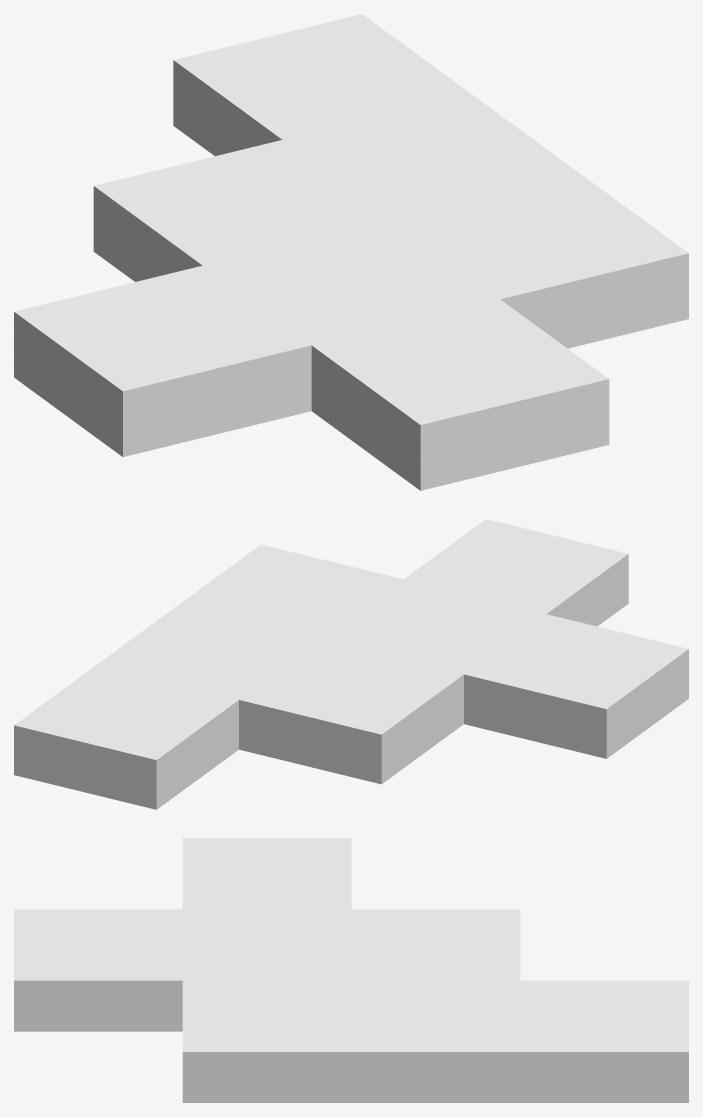
Rendered from cloud3.gltf.
3 views of the same model, one above another, from view 1: azimuth 30°, elevation 25°; view 2: azimuth 150°, elevation 25°; view 3: azimuth 270°, elevation 25° (orthographic). The views are drawn at different scales.
Visible parts, largest first — view 1: cloud3; view 2: cloud3; view 3: cloud3.
Part boxes in pixels (box(x1,y1,x2,y2)): cloud3: box(14, 14, 688, 490); cloud3: box(14, 519, 688, 809); cloud3: box(14, 838, 688, 1102).
Size of the model in its own units: 36 by 4 by 48.
1 material, 1 textured.
